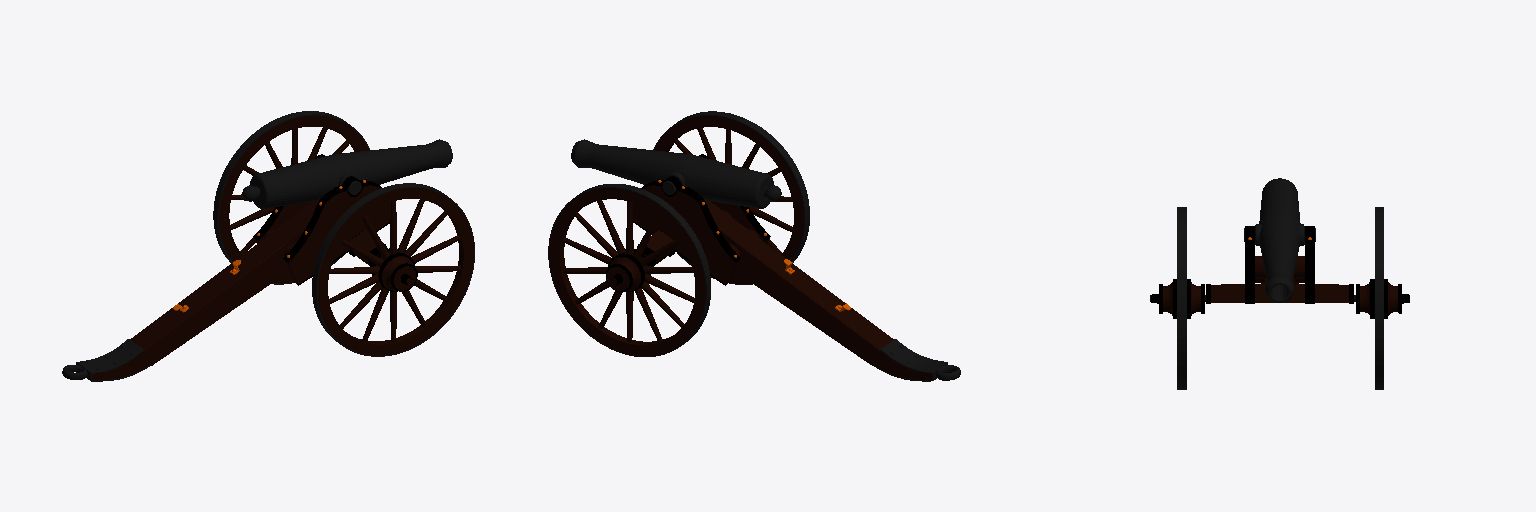
File: cannon_3.obj
The picture shows the model from 3 angles: view 1: azimuth 30°, elevation 25°; view 2: azimuth 150°, elevation 25°; view 3: azimuth 270°, elevation 25°; orthographic projection.
Parts seen in each view (by area): view 1: Wheel.L_Cylinder.002, Tongue_Cube.002, Barrel_Cylinder, Wheel.R_Cylinder.002, Vert, Vert.001_Vert; view 2: Wheel.R_Cylinder.002, Tongue_Cube.002, Barrel_Cylinder, Wheel.L_Cylinder.002, Vert.001_Vert, Vert; view 3: Barrel_Cylinder, Wheel.L_Cylinder.002, Wheel.R_Cylinder.002, WheelBase_Cube.003, Vert, Vert.001_Vert.
Part boxes in pixels (left/top/right/bottom): Wheel.L_Cylinder.002: left=312, top=183, right=474, bottom=356; Tongue_Cube.002: left=62, top=200, right=318, bottom=381; Barrel_Cylinder: left=242, top=139, right=452, bottom=208; Wheel.R_Cylinder.002: left=213, top=111, right=369, bottom=284; Vert: left=283, top=176, right=390, bottom=285; Vert.001_Vert: left=253, top=154, right=324, bottom=243; Wheel.R_Cylinder.002: left=548, top=184, right=710, bottom=356; Tongue_Cube.002: left=705, top=200, right=960, bottom=381; Barrel_Cylinder: left=571, top=139, right=781, bottom=208; Wheel.L_Cylinder.002: left=653, top=111, right=809, bottom=284; Vert.001_Vert: left=633, top=176, right=740, bottom=285; Vert: left=699, top=154, right=770, bottom=243; Barrel_Cylinder: left=1244, top=178, right=1315, bottom=302; Wheel.L_Cylinder.002: left=1159, top=207, right=1204, bottom=389; Wheel.R_Cylinder.002: left=1356, top=207, right=1401, bottom=389; WheelBase_Cube.003: left=1206, top=283, right=1353, bottom=303; Vert: left=1245, top=226, right=1254, bottom=303; Vert.001_Vert: left=1305, top=226, right=1314, bottom=303.
Size of the model in its own units: 3.51 by 1.46 by 2.07.